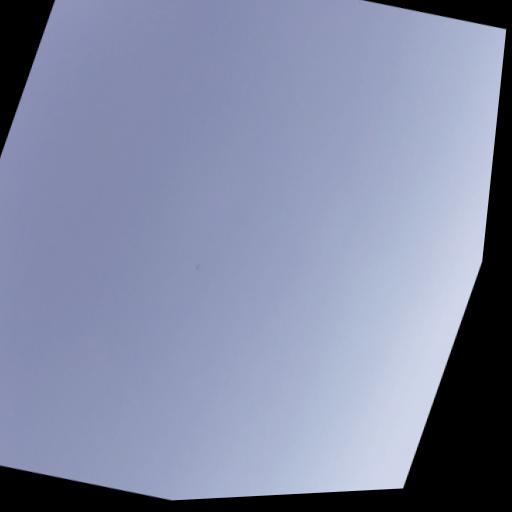drones: (190, 257, 205, 276)
